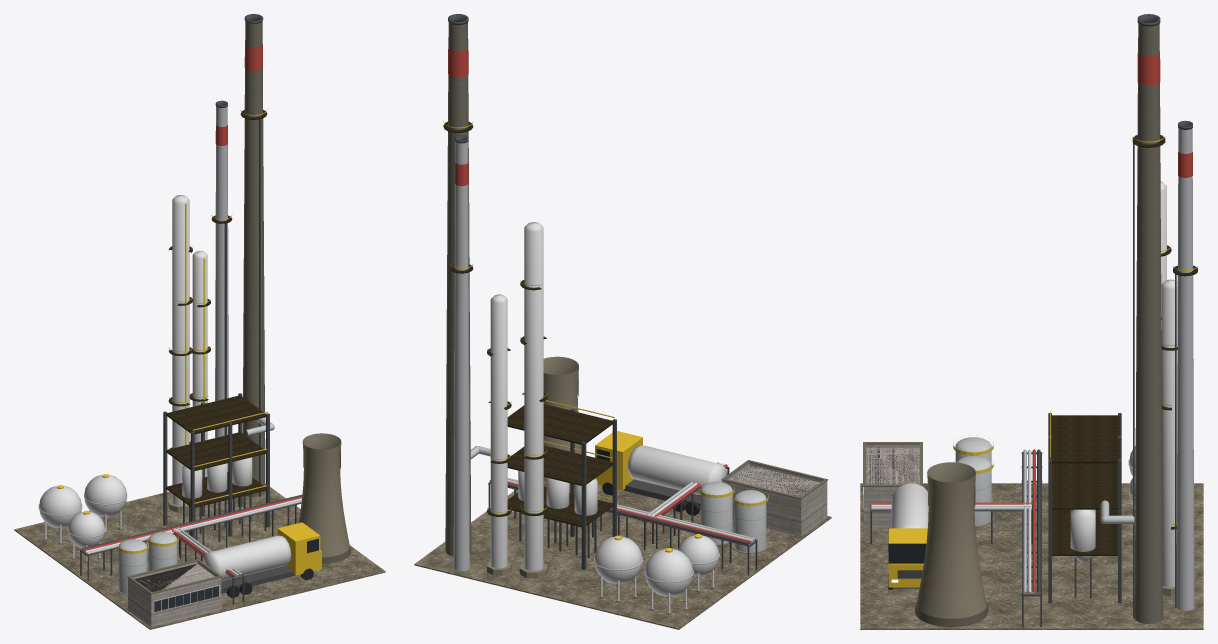
The model's file is chemical_plant.glb.
3 renders of one model, left to right at view 1: azimuth 30°, elevation 25°; view 2: azimuth 150°, elevation 25°; view 3: azimuth 270°, elevation 25°, orthographic. The views are drawn at different scales.
Parts seen in each view (by area): view 1: chemical_plant_body; view 2: chemical_plant_body; view 3: chemical_plant_body.
Boxes of the visible parts, bbox=[...] form: chemical_plant_body: bbox=[14, 14, 385, 629]; chemical_plant_body: bbox=[414, 14, 831, 629]; chemical_plant_body: bbox=[860, 14, 1203, 629].
Size of the model in its own units: 0.94 by 1.81 by 0.94.
23 materials, 8 textured.
